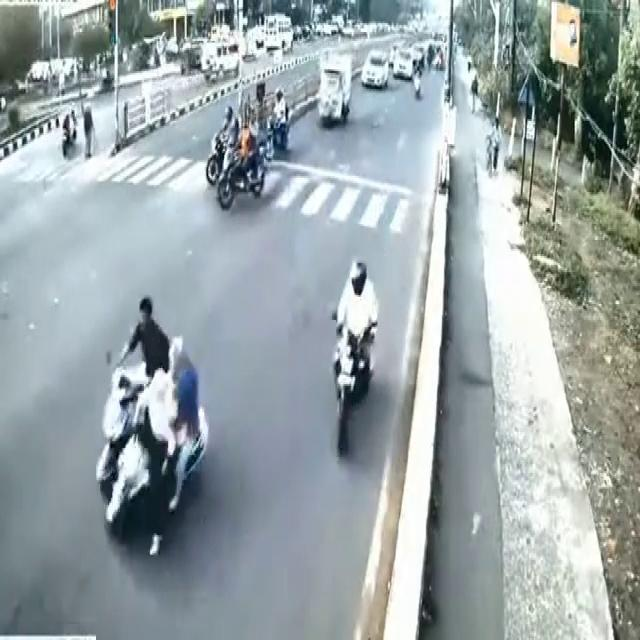accident: (77, 268, 202, 556)
